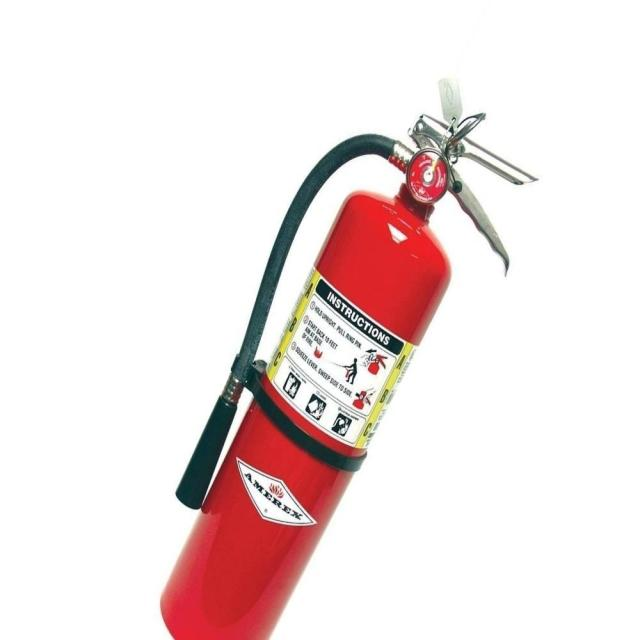fire_extinguisher: (147, 70, 542, 639)
